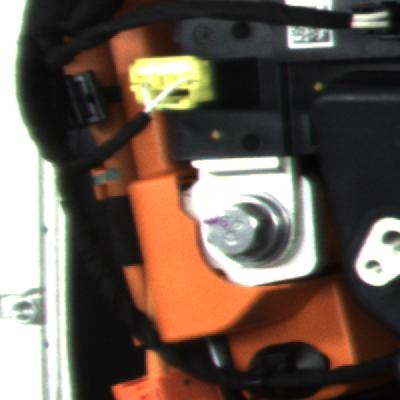nut_b: (195, 186, 308, 274)
